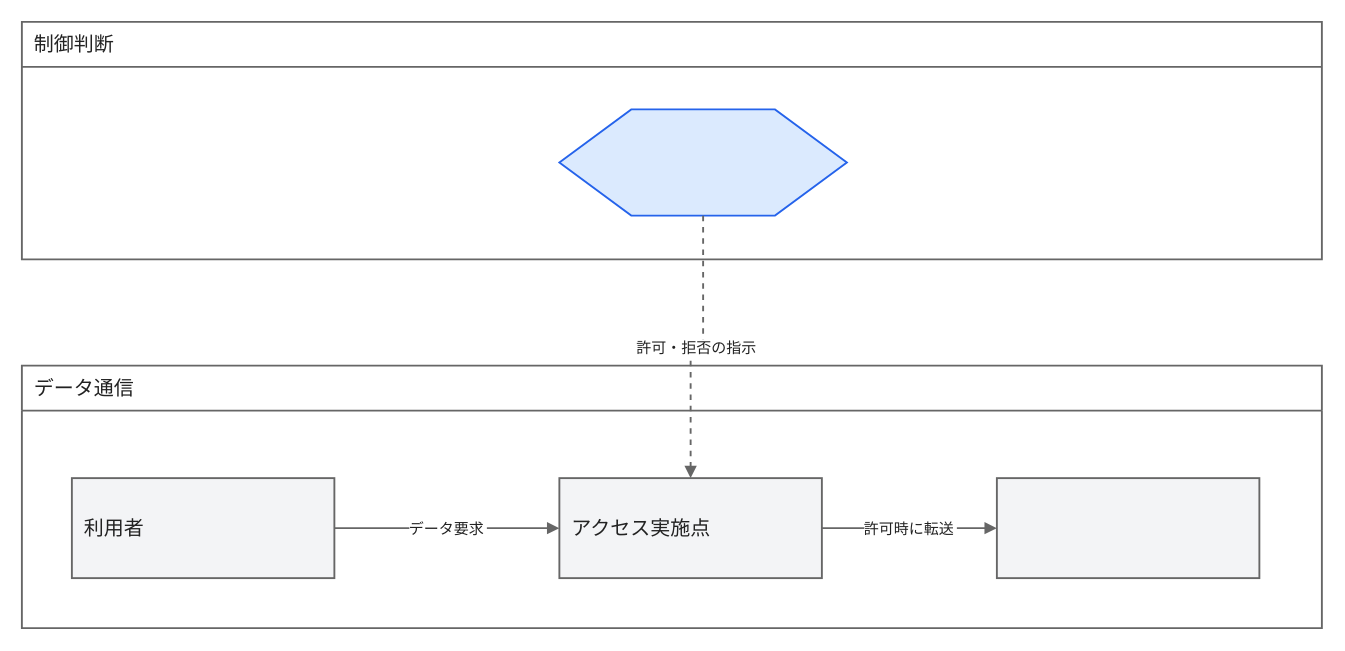
The diagram is 1345 pixels wide and 651 high, and some of its shapes have lost their labels. Each missing label, with the centre of its shape:
ポリシー判断: point (702, 162)
業務サービス: point (1127, 527)
